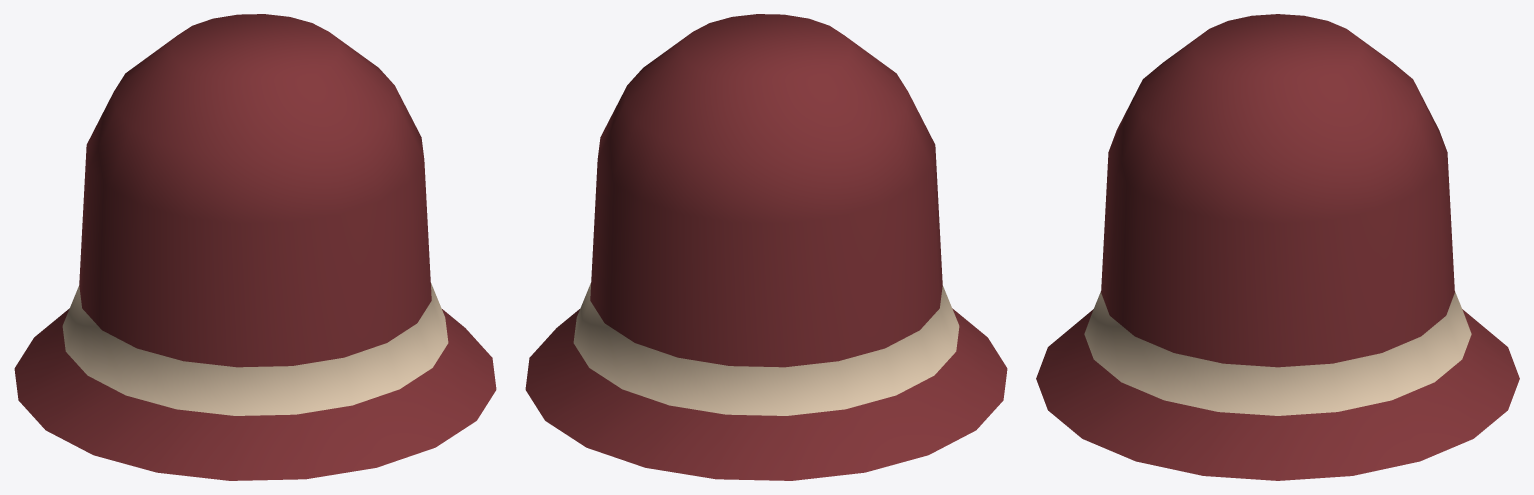
The model's file is Hat_Weird.fbx.
3 views of the same model, side by side, from view 1: azimuth 30°, elevation 25°; view 2: azimuth 150°, elevation 25°; view 3: azimuth 270°, elevation 25° (orthographic).
Parts seen in each view (by area): view 1: pCylinder1; view 2: pCylinder1; view 3: pCylinder1.
Boxes of the visible parts, box(x1,y1,x2,y2) form: pCylinder1: box(14, 14, 496, 480); pCylinder1: box(525, 14, 1007, 480); pCylinder1: box(1036, 14, 1519, 480).
Bounding box in the file's own units: 1.19 × 0.8925 × 1.19.
